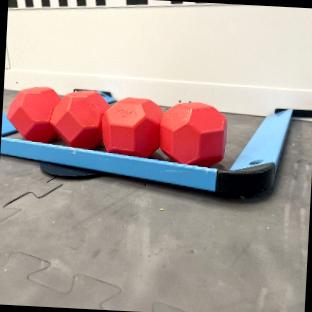V5_RED: (8, 85, 227, 166), (6, 87, 108, 148), (159, 102, 225, 166), (101, 96, 162, 155)
